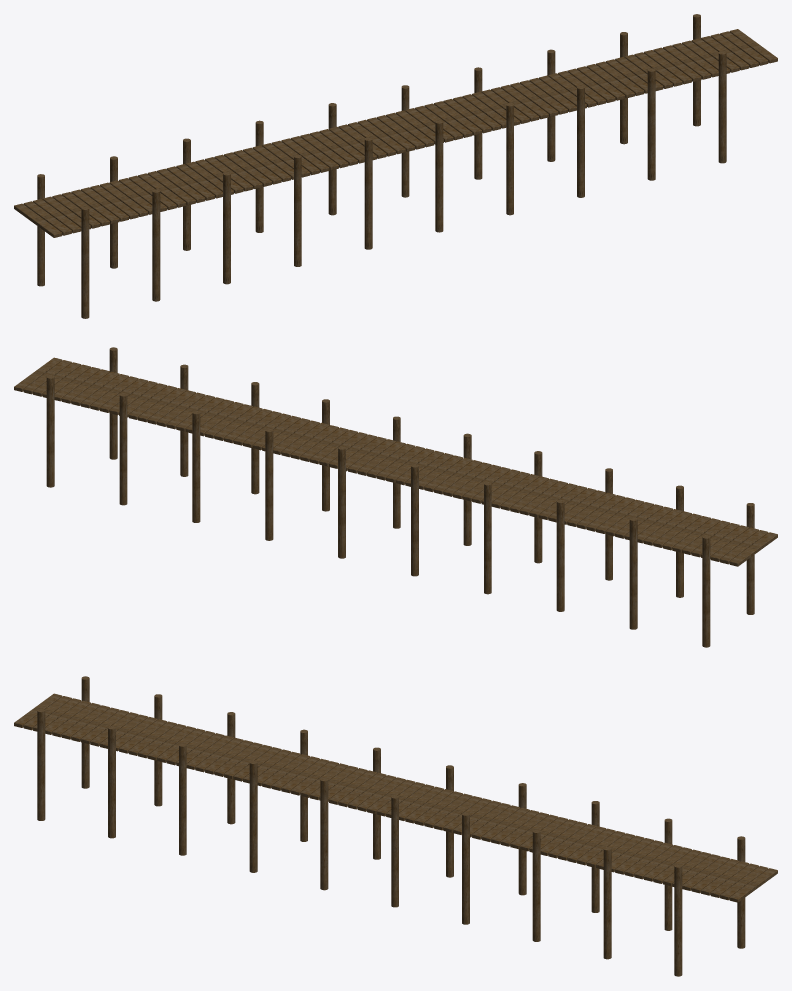
Rendered from pier.glb.
3 renders of one model, top to bottom at view 1: azimuth 30°, elevation 25°; view 2: azimuth 150°, elevation 25°; view 3: azimuth 330°, elevation 25°, orthographic.
Parts seen in each view (by area): view 1: Cylinder; view 2: Cylinder; view 3: Cylinder.
Boxes of the visible parts, x1=… form: Cylinder: x1=14, y1=14, x2=777, y2=318; Cylinder: x1=14, y1=347, x2=777, y2=647; Cylinder: x1=14, y1=676, x2=777, y2=976.
Bounding box in the file's own units: 20.87 × 3 × 2.41.
1 material, 1 textured.
